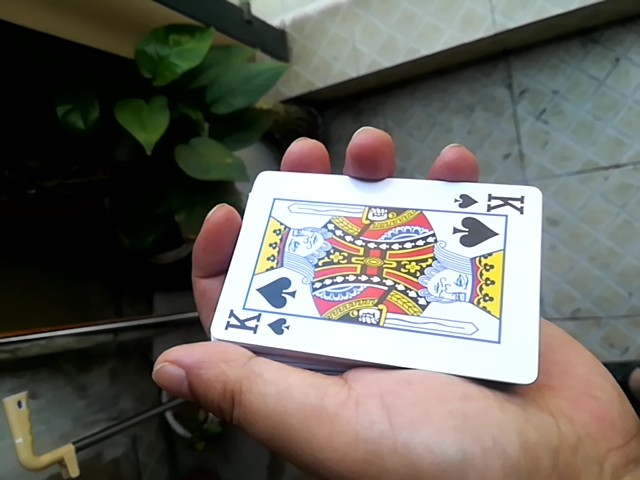ht k: (208, 164, 545, 383)
